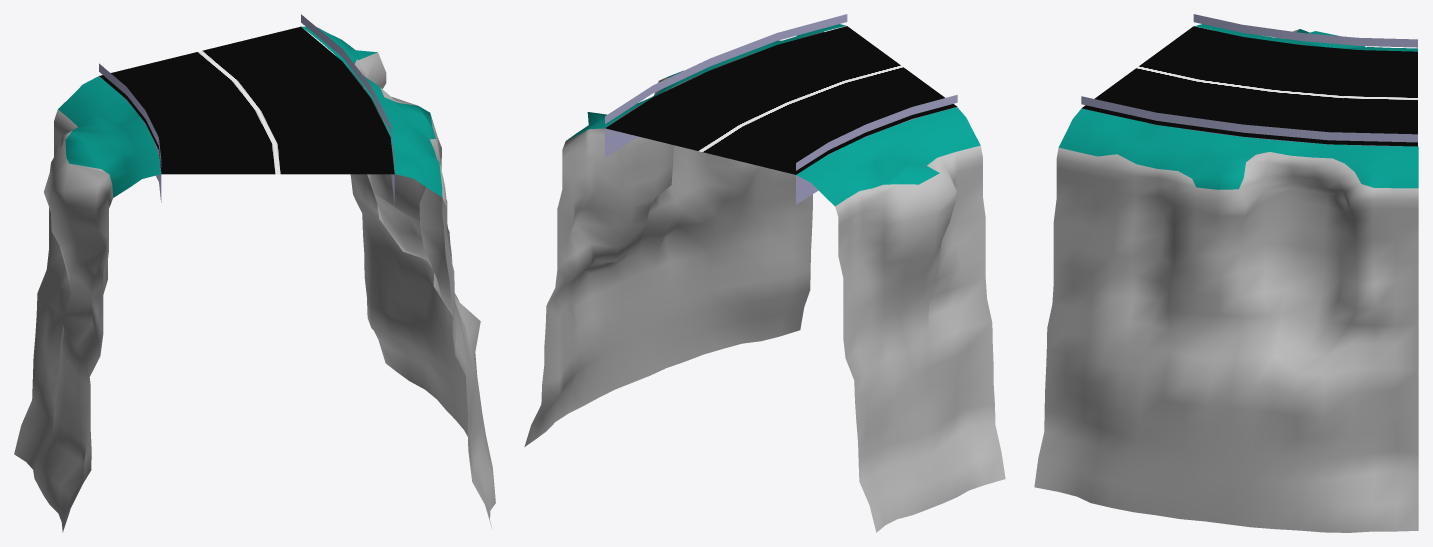
3 renders of one model, left to right at view 1: azimuth 30°, elevation 25°; view 2: azimuth 150°, elevation 25°; view 3: azimuth 270°, elevation 25°, orthographic. The views are drawn at different scales.
Visible parts, largest first — view 1: Mesh, cliff_1, cliff_2, guardRail_2, guardRail_1; view 2: cliff_2, cliff_1, Mesh, guardRail_2, guardRail_1, pylon; view 3: cliff_2, Mesh, guardRail_2, guardRail_1, cliff_1.
Part boxes in pixels (x1,y1,x2,y2): Mesh: (99,26,394,174); cliff_1: (14,76,160,532); cliff_2: (301,26,495,528); guardRail_2: (301,14,394,168); guardRail_1: (99,63,161,166); cliff_2: (524,24,845,446); cliff_1: (796,107,1005,532); Mesh: (605,26,956,174); guardRail_2: (605,14,847,123); guardRail_1: (796,94,957,170); pylon: (605,106,957,204); cliff_2: (1034,108,1418,532); Mesh: (1082,26,1417,146); guardRail_2: (1081,96,1417,142); guardRail_1: (1193,14,1417,47); cliff_1: (1194,24,1417,51).
Bounding box in the file's own units: 20.75 × 17.56 × 17.12.
